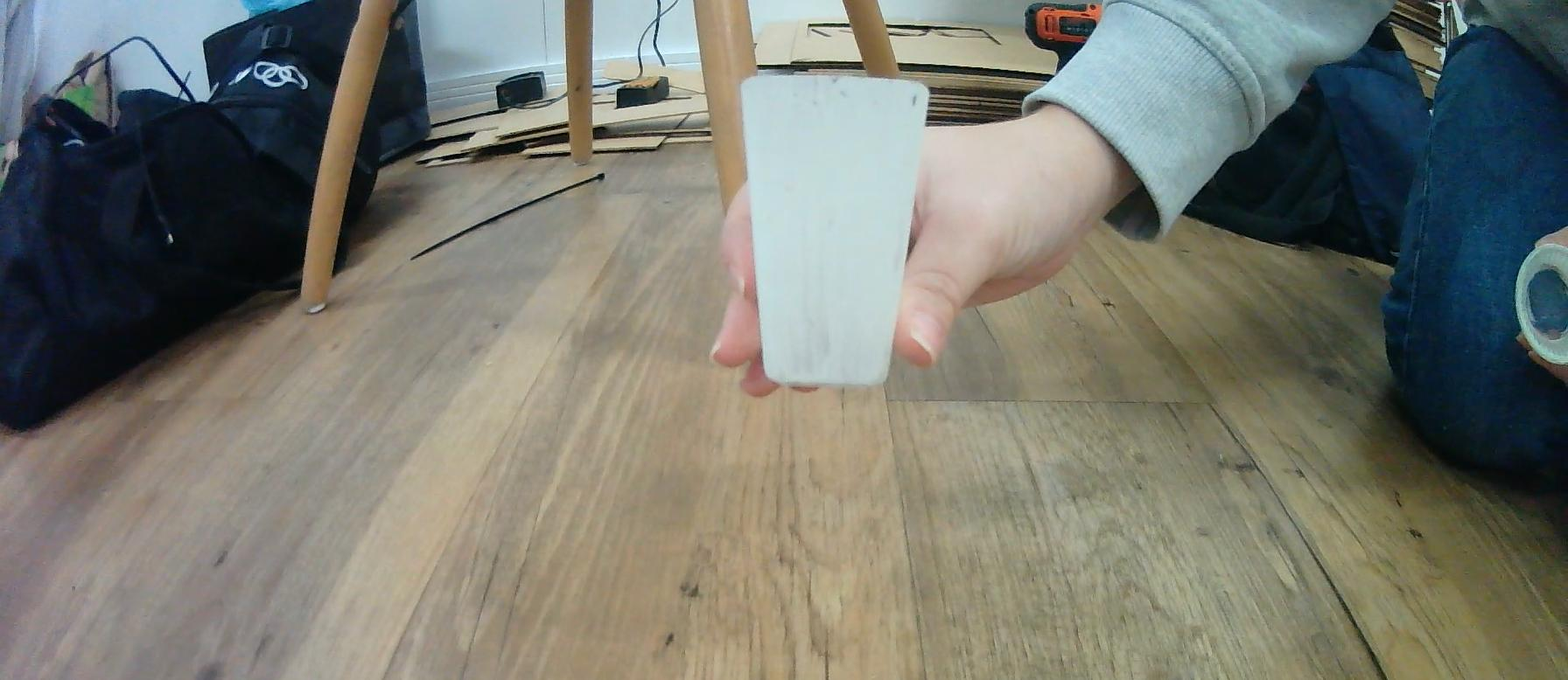erva_daninha: (739, 73, 930, 389)
planta: (1514, 244, 1568, 366)
